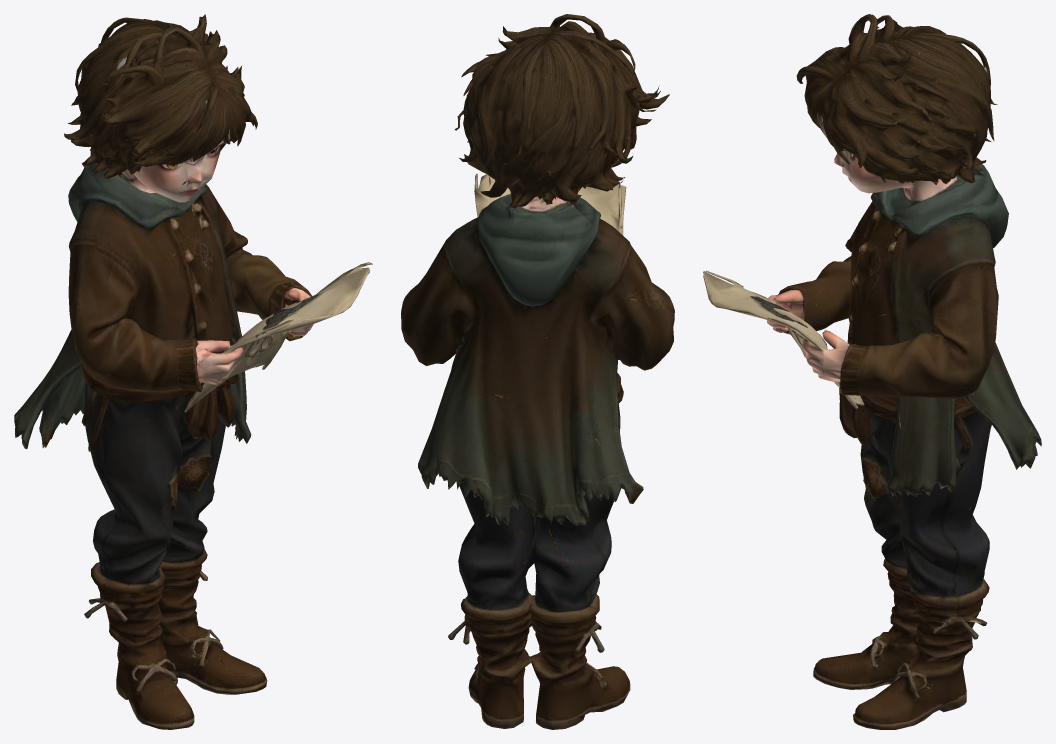
Rendered from village_child.glb.
The picture shows the model from 3 angles, left to right: view 1: azimuth 30°, elevation 25°; view 2: azimuth 150°, elevation 25°; view 3: azimuth 270°, elevation 25°; orthographic projection. The views are drawn at different scales.
Size of the model in its own units: 0.7534 by 1.9 by 0.8702.
1 material, 1 textured.
